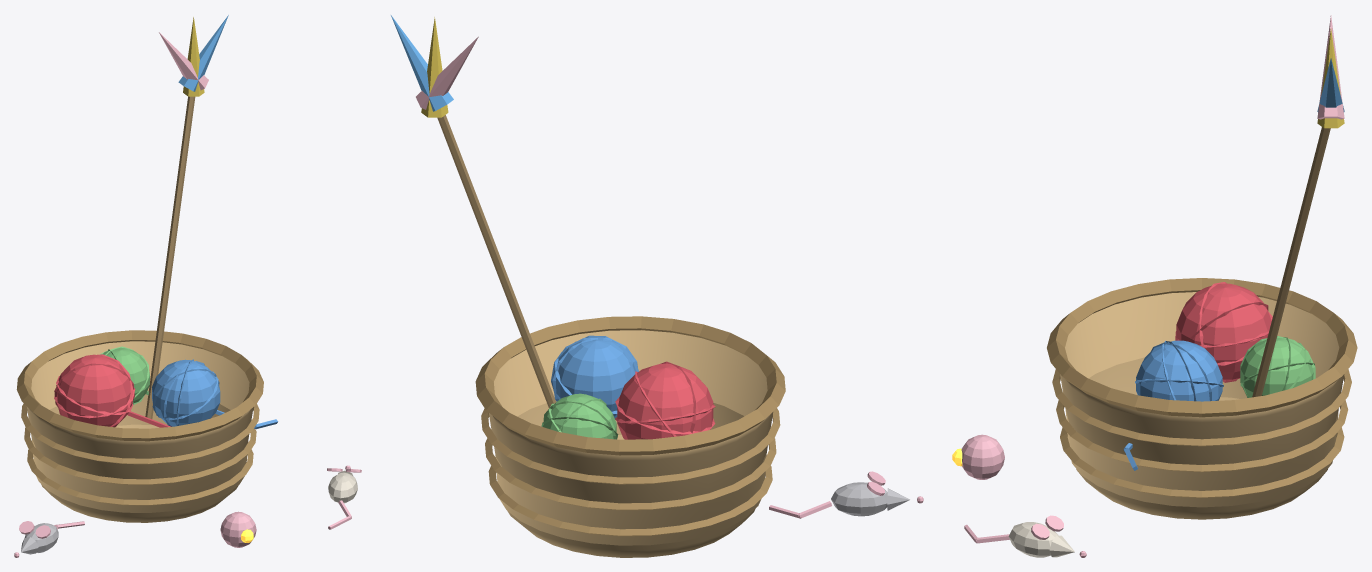
The model's file is cat_toys.glb.
3 views of the same model, side by side, from view 1: azimuth 30°, elevation 25°; view 2: azimuth 150°, elevation 25°; view 3: azimuth 270°, elevation 25° (orthographic). The views are drawn at different scales.
Visible parts, largest first — view 1: cat_toys; view 2: cat_toys; view 3: cat_toys.
Part boxes in pixels (x1,y1,x2,y2): cat_toys: [14, 15, 361, 557]; cat_toys: [391, 15, 923, 557]; cat_toys: [952, 15, 1357, 557].
Bounding box in the file's own units: 0.8174 × 0.925 × 0.668.
